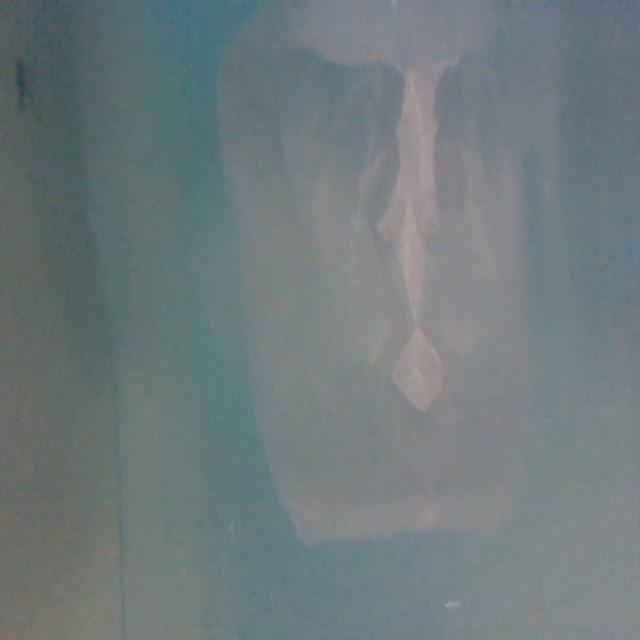plastic bags: (234, 0, 437, 595)
